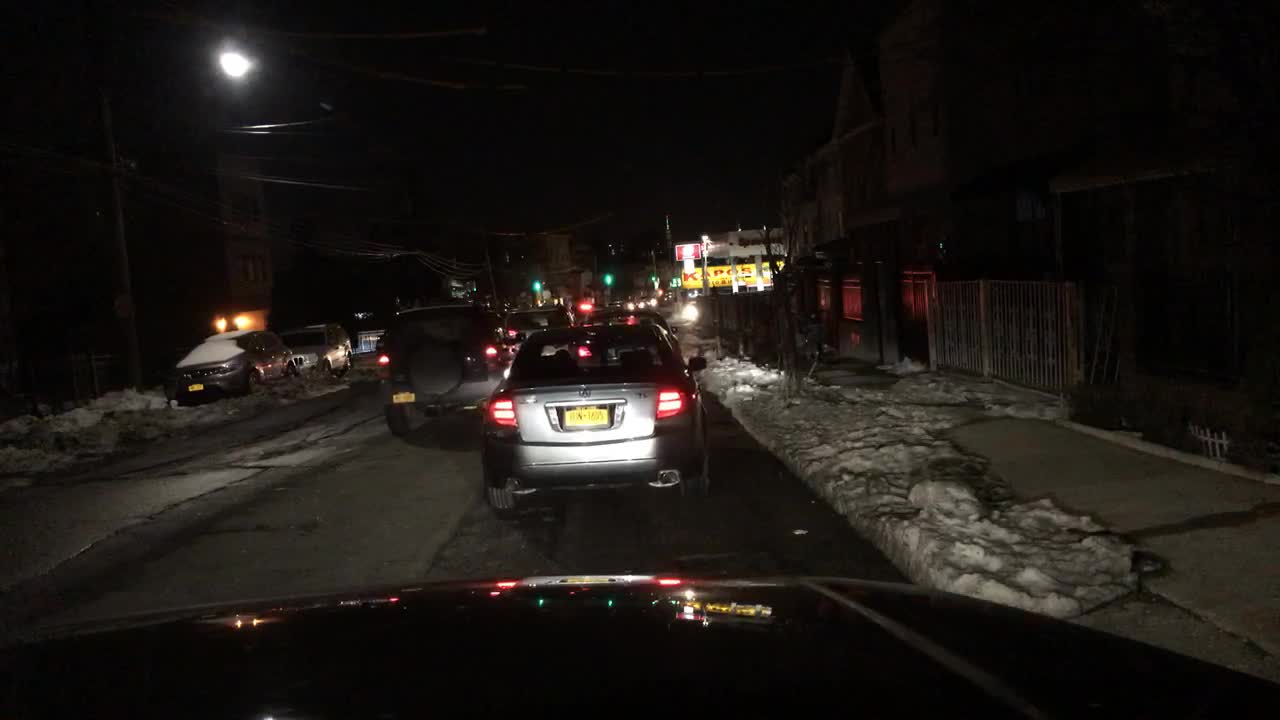car: (480, 320, 710, 515), (372, 301, 516, 437), (174, 328, 299, 406), (274, 320, 354, 379), (501, 305, 575, 361), (573, 303, 603, 322), (634, 294, 656, 310), (680, 303, 697, 319), (659, 288, 674, 303), (606, 299, 624, 311), (684, 285, 698, 298), (623, 301, 635, 310)
traffic light: (602, 271, 613, 283), (531, 279, 541, 290), (647, 271, 657, 281), (670, 275, 680, 284), (469, 283, 477, 292)
